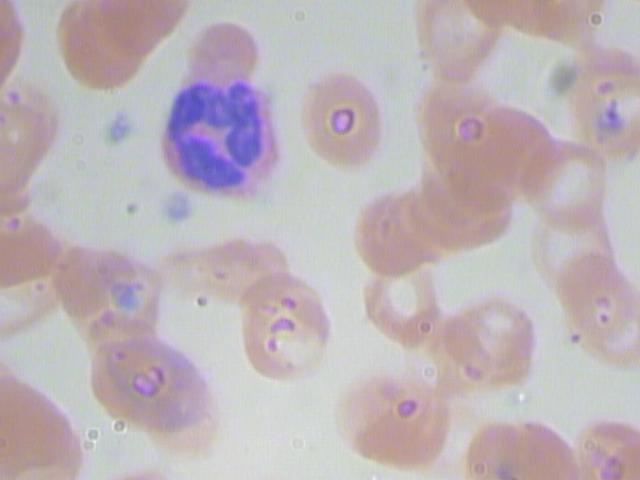RBC: (331, 361, 456, 471), (52, 237, 170, 345), (91, 335, 213, 435), (547, 41, 640, 168), (227, 276, 336, 382), (285, 69, 394, 175), (555, 253, 640, 372), (447, 291, 540, 392), (519, 135, 612, 236), (461, 411, 585, 480), (411, 1, 511, 80), (56, 17, 152, 90), (346, 188, 423, 278), (362, 260, 439, 350), (185, 9, 264, 82), (90, 1, 183, 55)
